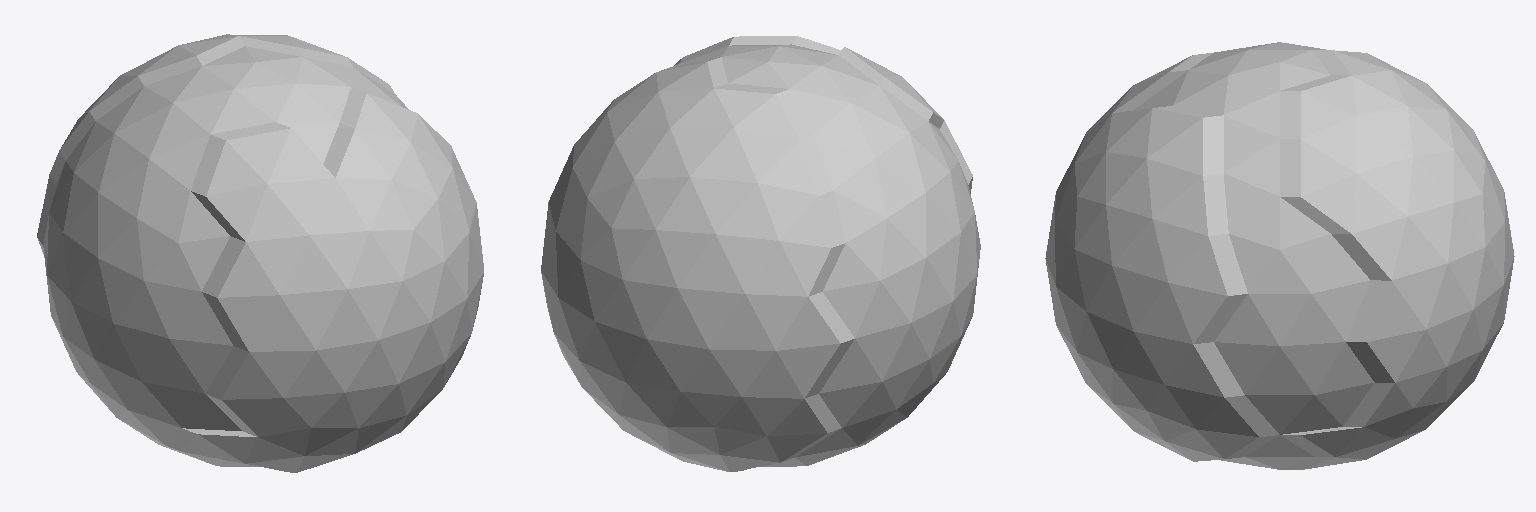
The model's file is Planet02.obj.
The picture shows the model from 3 angles: view 1: azimuth 30°, elevation 25°; view 2: azimuth 150°, elevation 25°; view 3: azimuth 270°, elevation 25°; orthographic projection.
Parts seen in each view (by area): view 1: Icosphere; view 2: Icosphere; view 3: Icosphere.
Boxes of the visible parts, box(x1,y1,x2,y2) form: Icosphere: box(37, 34, 483, 472); Icosphere: box(541, 36, 980, 471); Icosphere: box(1045, 42, 1514, 469).
Bounding box in the file's own units: 3.65 × 3.65 × 4.